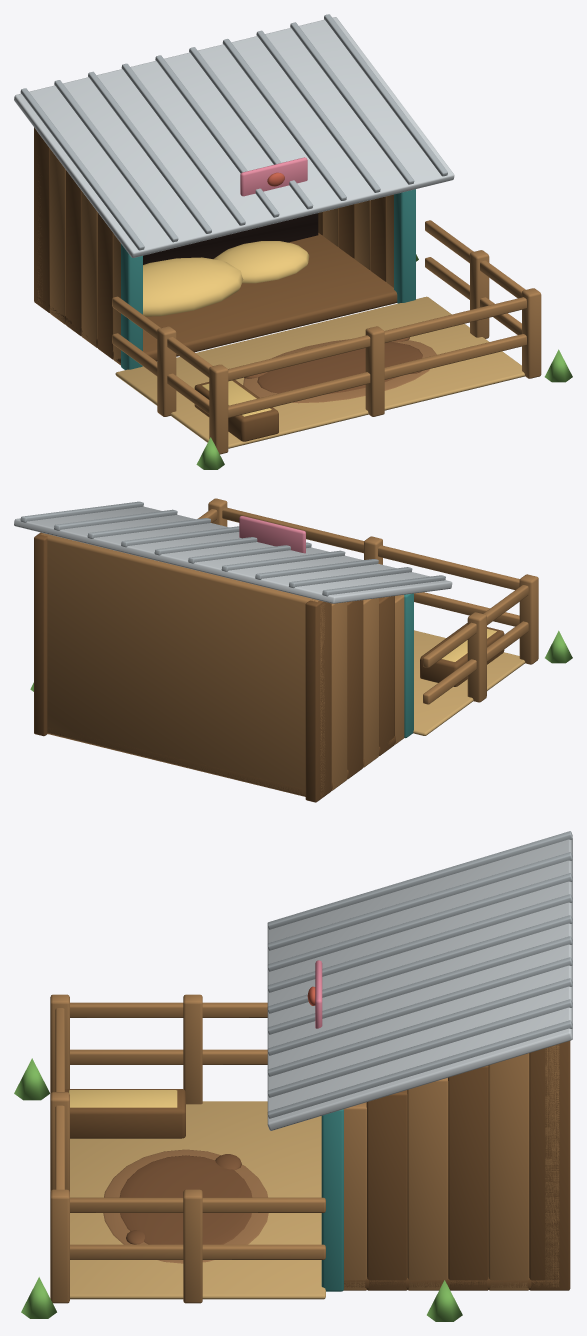
The model's file is sty.glb.
The picture shows the model from 3 angles, top to bottom: view 1: azimuth 30°, elevation 25°; view 2: azimuth 150°, elevation 25°; view 3: azimuth 270°, elevation 25°; orthographic projection. The views are drawn at different scales.
Parts seen in each view (by area): view 1: STY · roof, STY · pen ground, STY · floor, STY · straw heap, STY · pen rail front 0.75, STY · pen rail front 0.38, STY · wallow, STY · interior shade, STY · straw heap small, STY · side plank -10, STY · side plank -11, STY · side plank -12 (+31 smaller); view 2: STY · back wall, STY · roof, STY · side plank -10, STY · pen ground, STY · pen rail front 0.75, STY · side plank -11, STY · side plank -12, STY · side plank 10, STY · side plank -13, STY · side plank -14, STY · pen post mid -1.65, STY · pen post front -1.65 (+20 smaller); view 3: STY · roof, STY · pen ground, STY · side plank 10, STY · side plank 11, STY · side plank 12, STY · side plank 13, STY · side plank 14, STY · wallow, STY · side plank 15, STY · trough, STY · front post 1, STY · pen rail side 1.650.38 (+26 smaller).
Part boxes in pixels (x1,y1,x2,y2): STY · roof: [14, 17, 454, 257]; STY · pen ground: [115, 296, 524, 448]; STY · floor: [37, 233, 397, 363]; STY · straw heap: [143, 257, 243, 316]; STY · pen rail front 0.75: [228, 297, 526, 381]; STY · pen rail front 0.38: [228, 334, 526, 417]; STY · wallow: [257, 342, 422, 394]; STY · interior shade: [143, 213, 318, 264]; STY · straw heap small: [213, 241, 309, 283]; STY · side plank -10: [34, 127, 49, 312]; STY · side plank -11: [50, 149, 65, 324]; STY · side plank -12: [65, 170, 81, 336]; STY · back wall: [40, 533, 325, 796]; STY · roof: [14, 506, 452, 603]; STY · side plank -10: [305, 599, 331, 802]; STY · pen ground: [413, 630, 525, 735]; STY · pen rail front 0.75: [222, 507, 519, 589]; STY · side plank -11: [331, 602, 347, 790]; STY · side plank -12: [347, 600, 363, 779]; STY · side plank 10: [34, 532, 47, 736]; STY · side plank -13: [363, 598, 378, 767]; STY · side plank -14: [379, 596, 394, 755]; STY · pen post mid -1.65: [467, 612, 486, 702]; STY · pen post front -1.65: [519, 574, 538, 664]; STY · roof: [267, 838, 572, 1130]; STY · pen ground: [70, 1101, 325, 1299]; STY · side plank 10: [529, 1041, 570, 1290]; STY · side plank 11: [488, 1053, 529, 1290]; STY · side plank 12: [448, 1065, 488, 1290]; STY · side plank 13: [407, 1077, 448, 1290]; STY · side plank 14: [366, 1090, 407, 1290]; STY · wallow: [119, 1155, 252, 1244]; STY · side plank 15: [343, 1102, 366, 1290]; STY · trough: [65, 1089, 185, 1138]; STY · front post 1: [321, 1109, 343, 1291]; STY · pen rail side 1.650.38: [70, 1244, 325, 1259].
Size of the model in its own units: 3.98 by 2.22 by 4.
